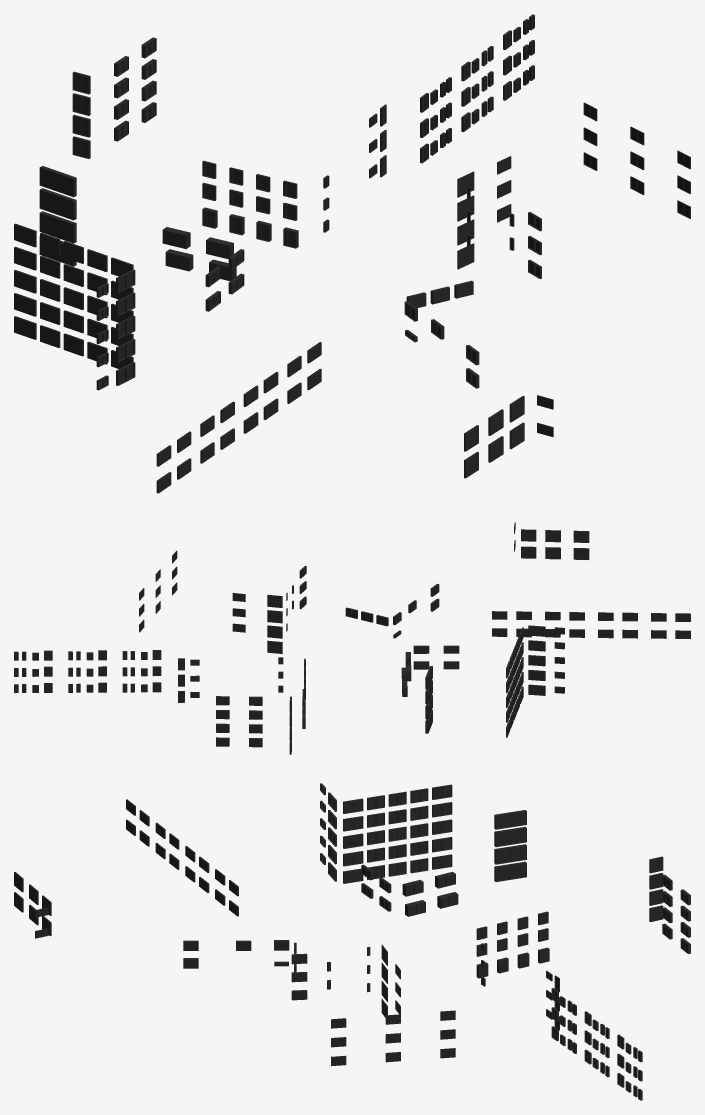
File: Window_Frame.obj
3 views of the same model, one above another, from view 1: azimuth 30°, elevation 25°; view 2: azimuth 150°, elevation 25°; view 3: azimuth 270°, elevation 25° (orthographic). The views are drawn at different scales.
Parts seen in each view (by area): view 1: Window_Frame; view 2: Window_Frame; view 3: Window_Frame.
Boxes of the visible parts, x1=… form: Window_Frame: x1=14, y1=14, x2=690, y2=493; Window_Frame: x1=14, y1=522, x2=690, y2=754; Window_Frame: x1=14, y1=783, x2=690, y2=1100.
Size of the model in its own units: 102 by 15.18 by 110.
1 material, 1 textured.
